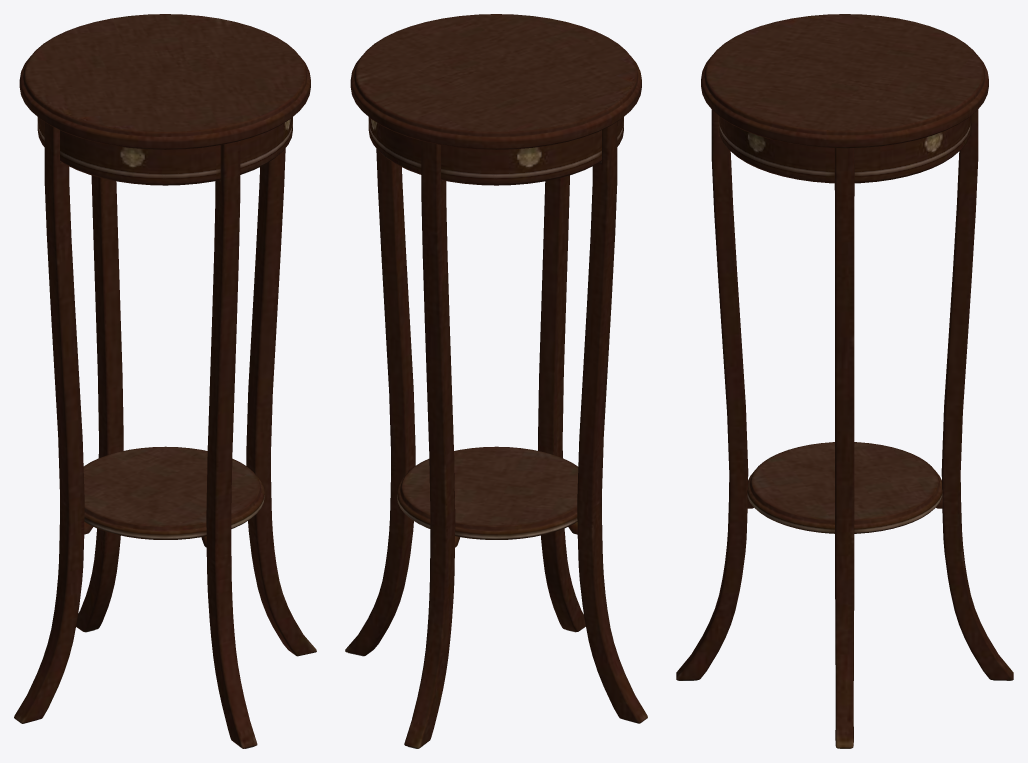
Rendered from side_table_tall_01_lite.gltf.
3 renders of one model, left to right at view 1: azimuth 30°, elevation 25°; view 2: azimuth 150°, elevation 25°; view 3: azimuth 270°, elevation 25°, orthographic.
Visible parts, largest first — view 1: side_table_tall_01; view 2: side_table_tall_01; view 3: side_table_tall_01.
Boxes of the visible parts, x1,y1,x2,y2 form: side_table_tall_01: [14, 14, 316, 748]; side_table_tall_01: [345, 14, 647, 748]; side_table_tall_01: [676, 14, 1013, 748].
Bounding box in the file's own units: 0.384 × 0.7612 × 0.384.
1 material, 1 textured.
